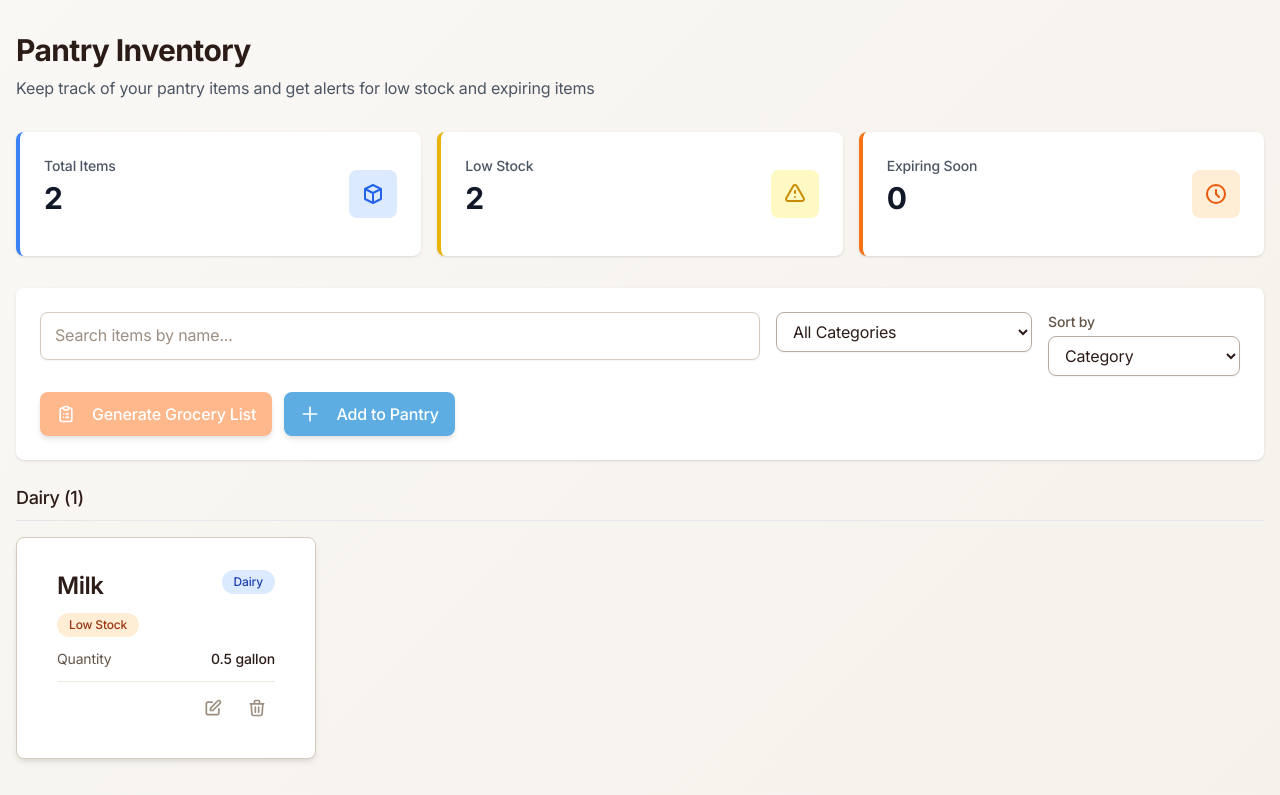
Test: PantryPage - Sort Functionality › should not display "Other Items" section when all items are low stock
Expected: the heading "Milk" is shown, x1=57 y1=571 x2=104 y2=600
Select "Low Stock" in the dropdown labelled "Sort by" at (1144, 356), box x1=1048 y1=336 x2=1240 y2=376
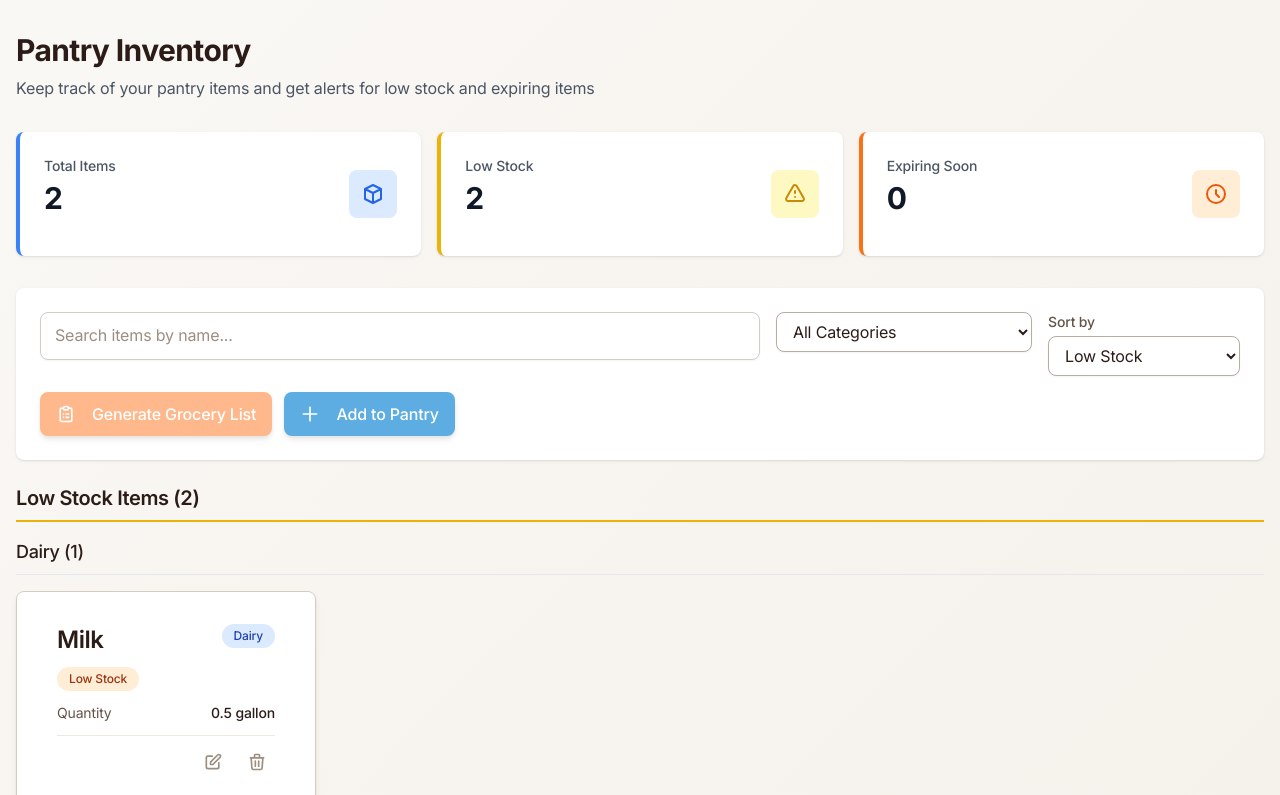
Expected: the heading "Low Stock Items (2)" is shown, x1=16 y1=484 x2=1264 y2=522
